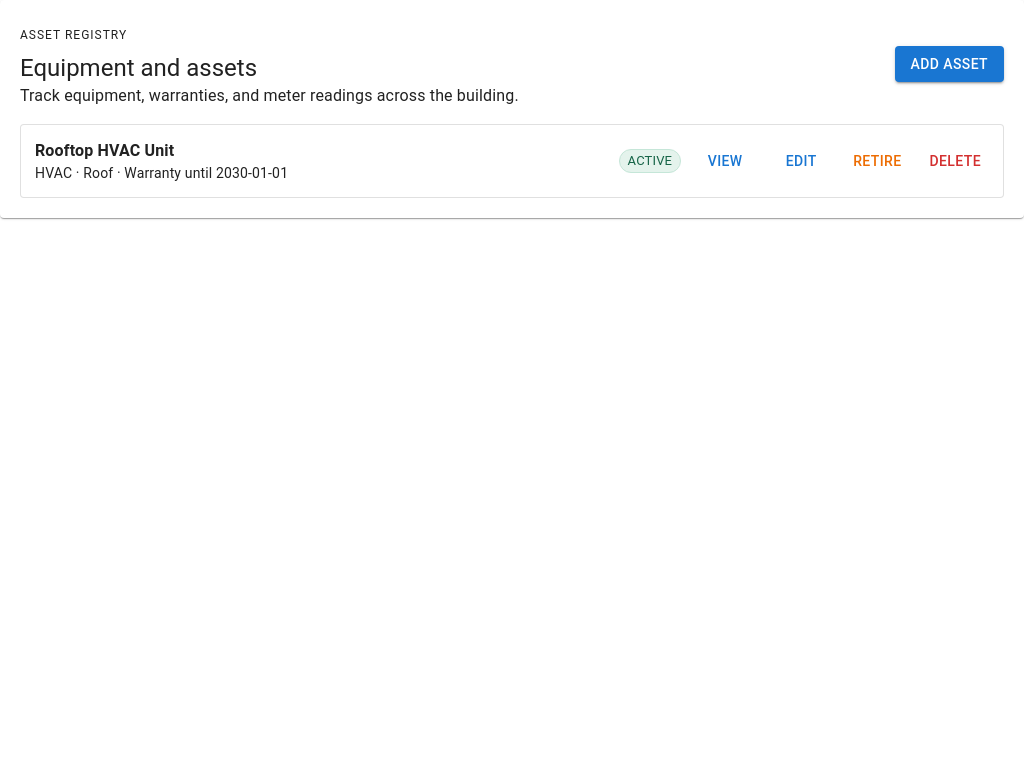
it: rejects a negative or over-precise meter reading
The image size is (1024, 768).
Step 1. Click the button "View" → (725, 161), box [693,143,757,179]
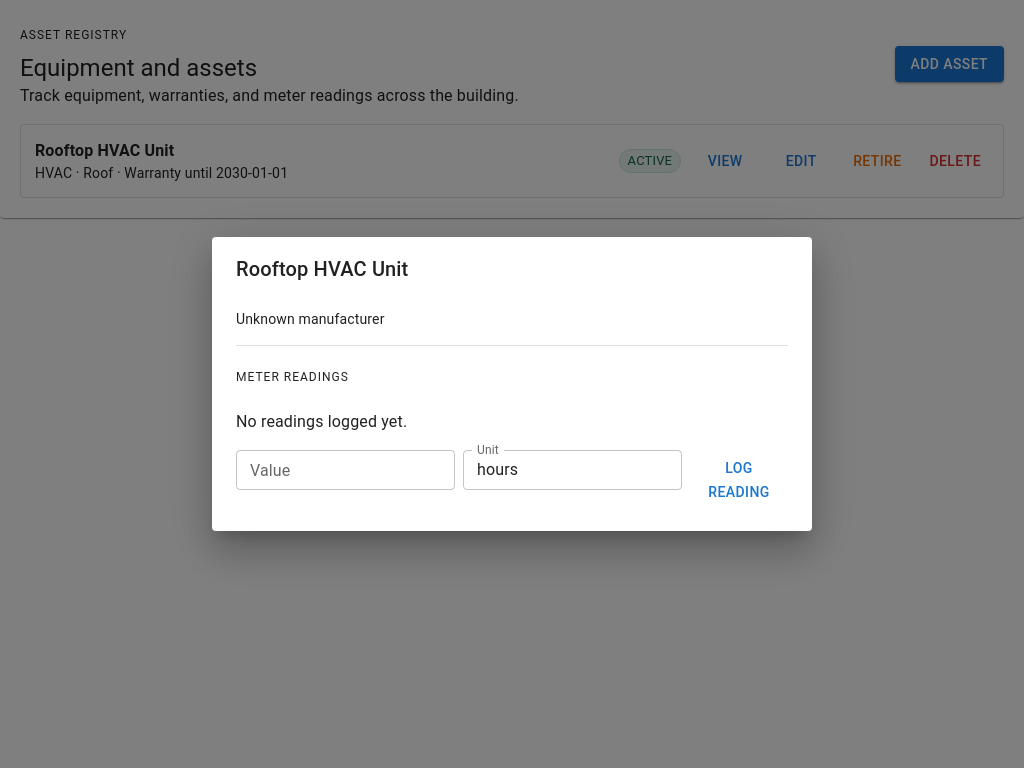
Step 2. Type "1.234" into the number field labelled "Value" → (346, 470), box [236,450,455,490]
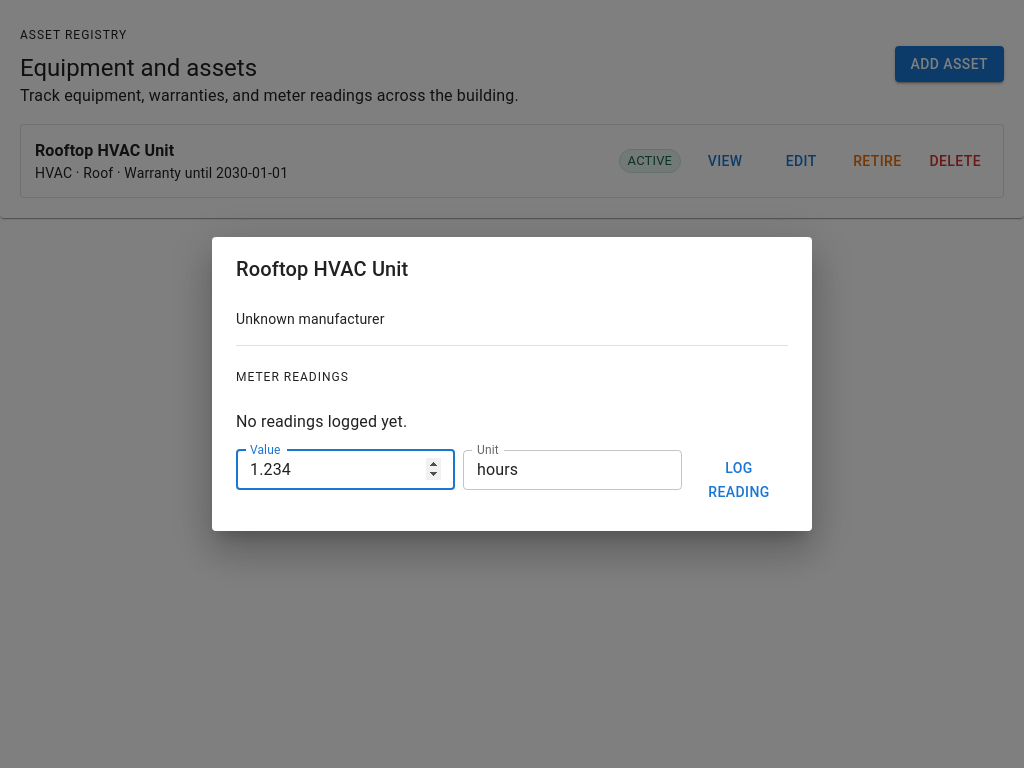
Step 3. Click the button "Log reading" → (739, 480), box [690,450,788,511]
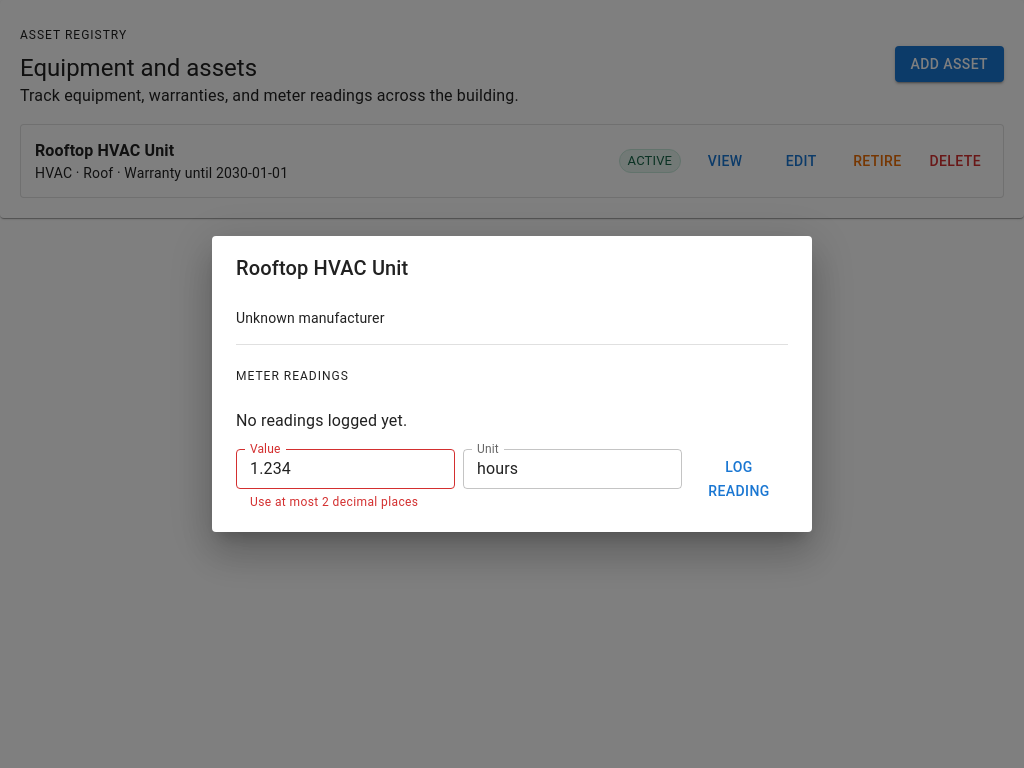
Check: the text "Use at most 2 decimal places" is shown, box [250,492,441,512]
